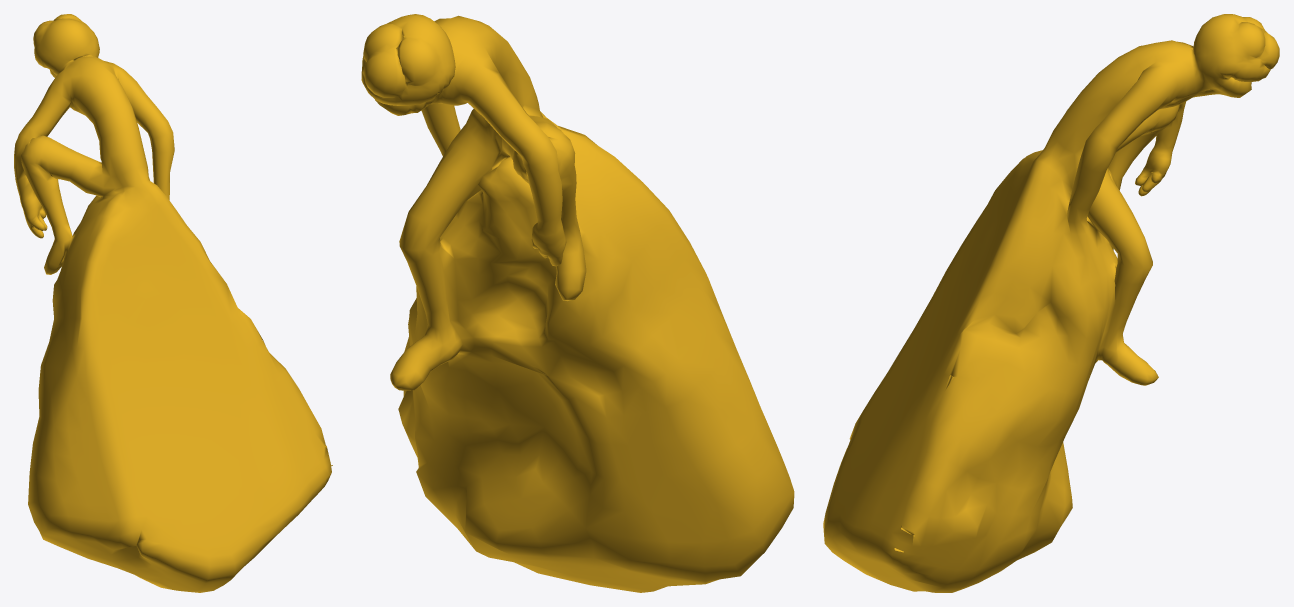
The model's file is comuñe.fbx.
The picture shows the model from 3 angles, left to right: view 1: azimuth 30°, elevation 25°; view 2: azimuth 150°, elevation 25°; view 3: azimuth 270°, elevation 25°; orthographic projection. The views are drawn at different scales.
Visible parts, largest first — view 1: mopetino1_2_SeamsColor; view 2: mopetino1_2_SeamsColor; view 3: mopetino1_2_SeamsColor.
Boxes of the visible parts, box(x1,y1,x2,y2) form: mopetino1_2_SeamsColor: box(14, 14, 332, 592); mopetino1_2_SeamsColor: box(361, 14, 794, 592); mopetino1_2_SeamsColor: box(823, 14, 1279, 592).
Bounding box in the file's own units: 52.16 × 88.04 × 63.43.
